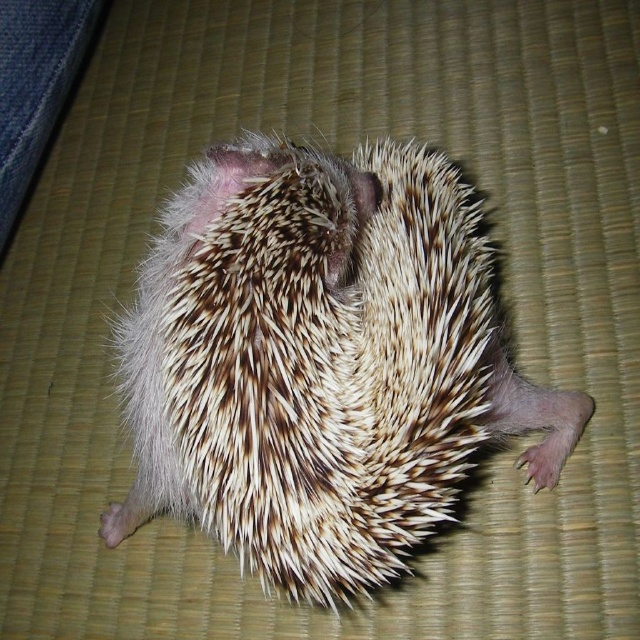Hedgehog: (100, 125, 592, 619)
